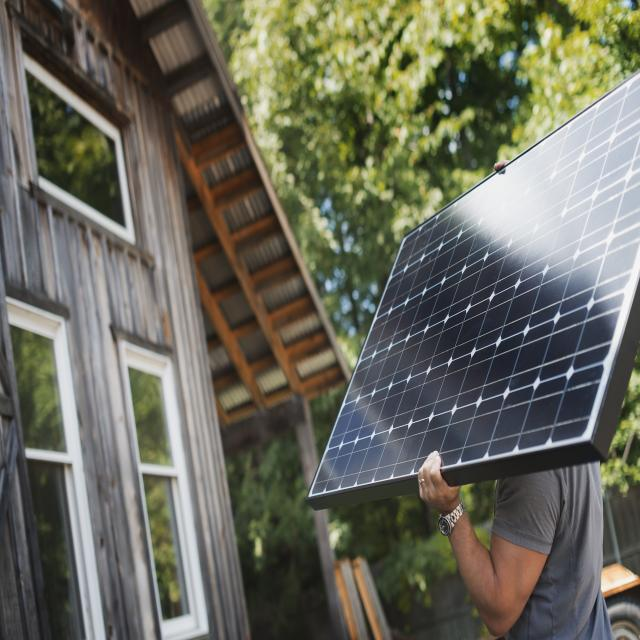no faulty: (307, 75, 640, 492)
